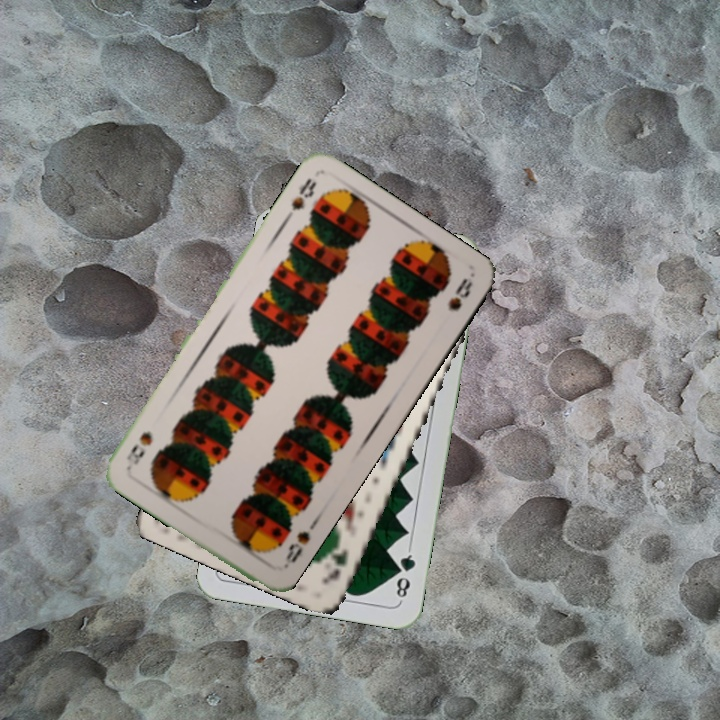G8: (392, 545, 418, 604)
GK: (319, 536, 351, 588)
S8: (280, 174, 320, 225), (279, 527, 313, 571)
